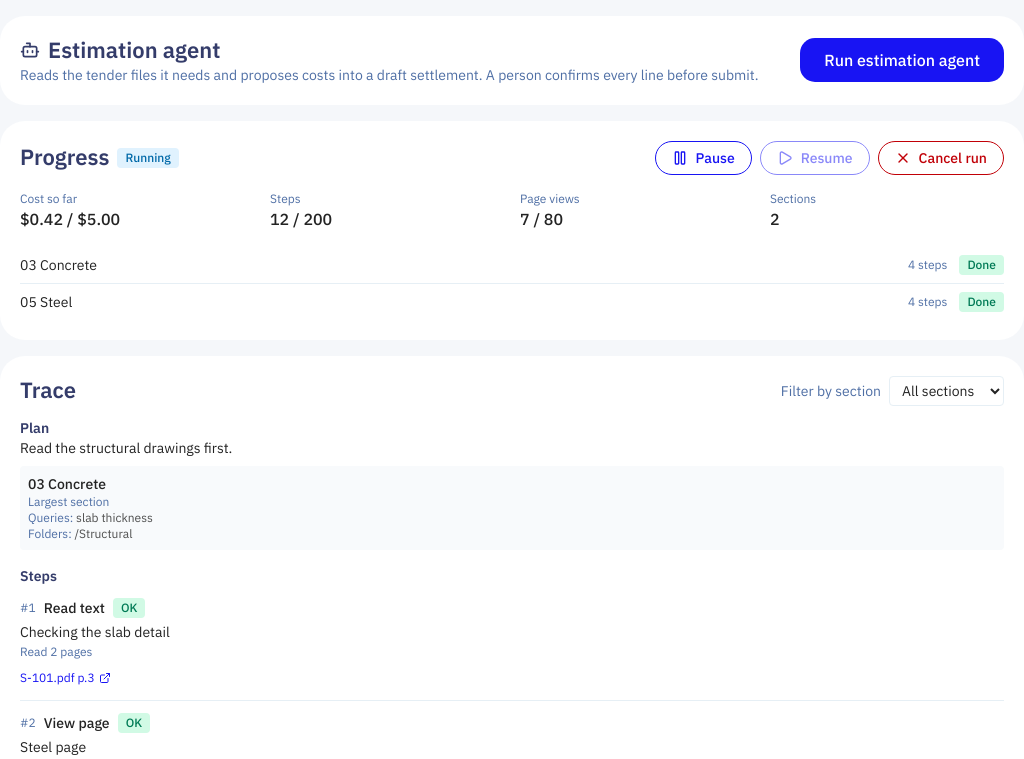
Scenario: AgentTab › trace › filters by section and loads later steps with after_seq
Expected: the text "Steel page" is shown, [20,738,86,756]
Select "03 Concrete" in the dropdown labelled "Filter by section" at (946, 391), box [889,376,1004,406]
Wait 2600 ms
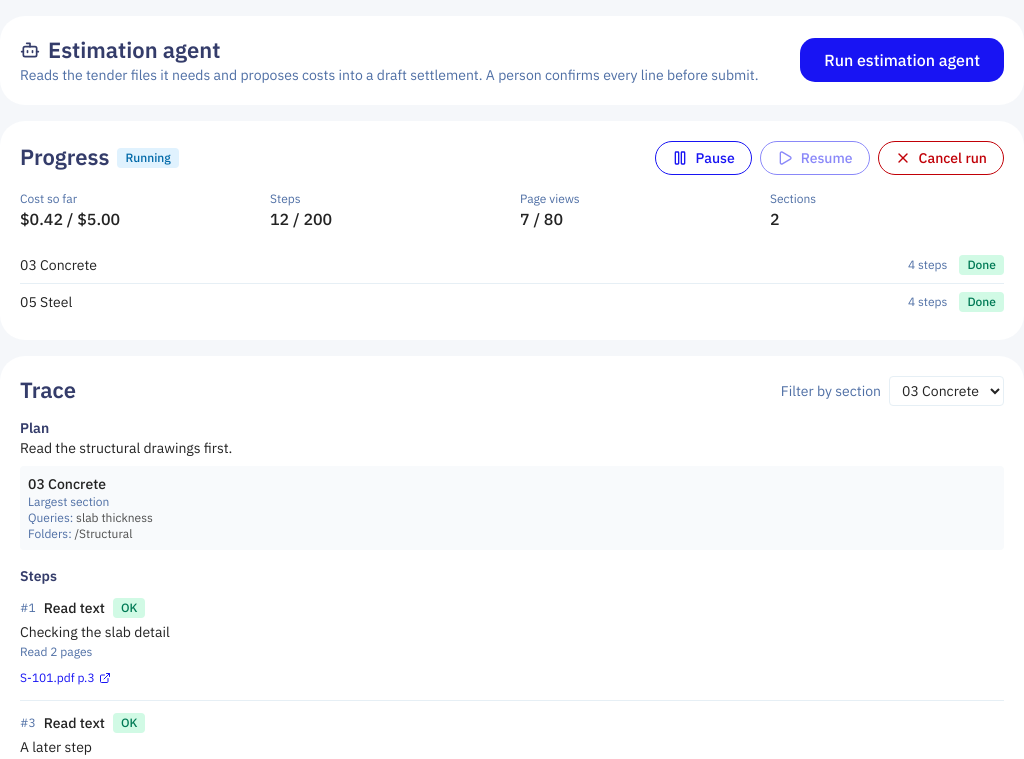
Expected: the text "Checking the slab detail" is shown, [20,623,170,641]
Expected: the text "Steel page" is gone
Expected: the text "A later step" is shown, [20,738,92,756]
